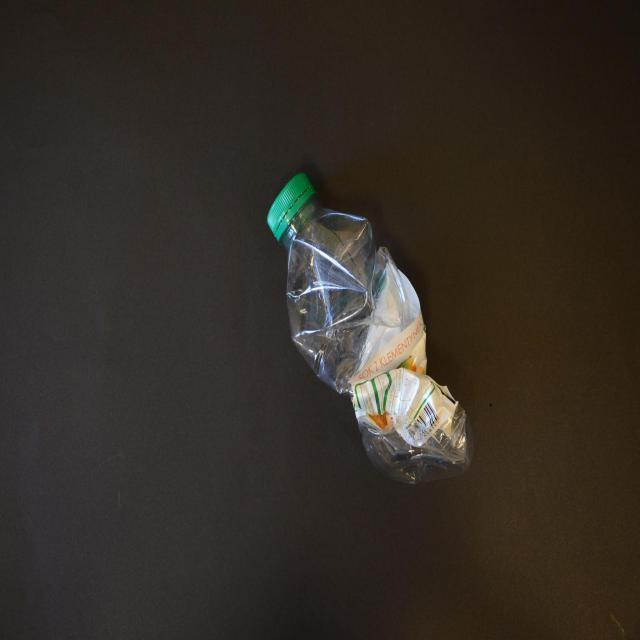plastic_bottle: (266, 172, 474, 483)
